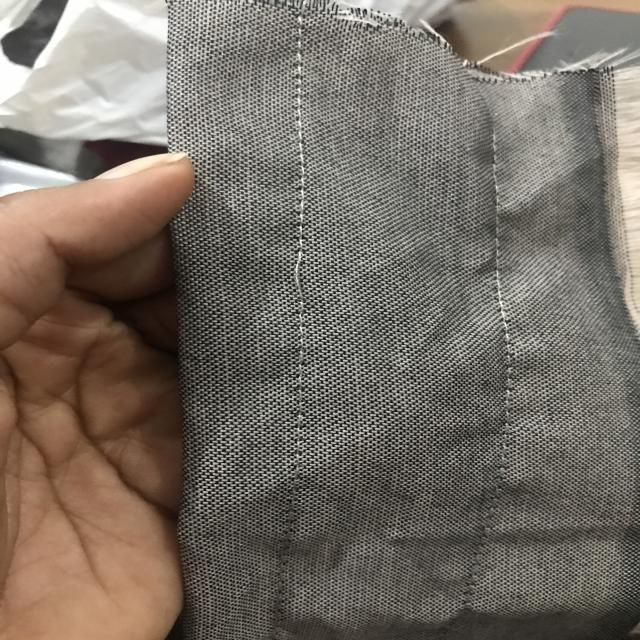skip: (273, 240, 320, 308)
